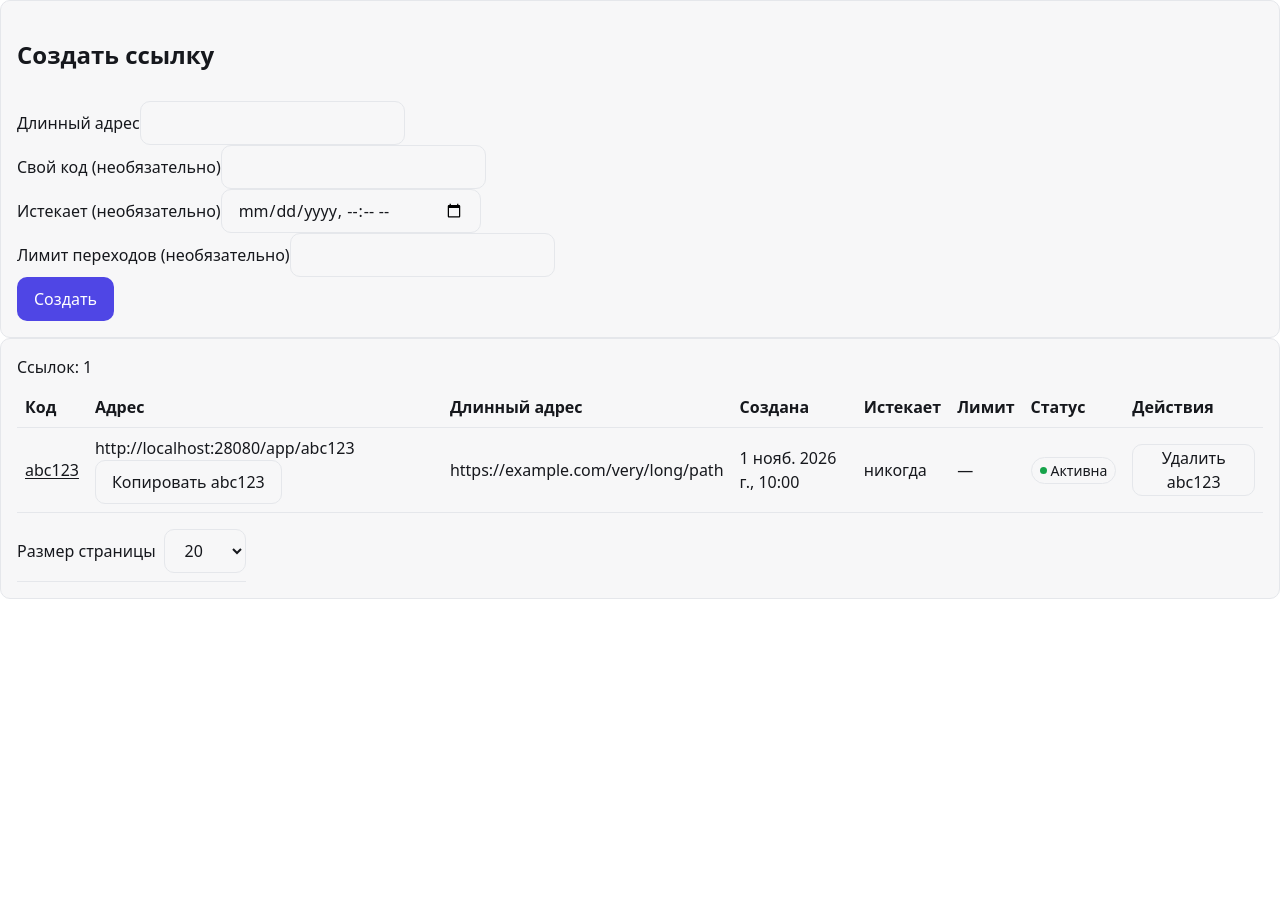
it: LinksPage › без токена создание и удаление уходят без Authorization, а не со `Bearer null`
The image size is (1280, 900).
Type "https://example.com" into the field labelled "Длинный адрес".
click(272, 123); type("https://example.com")  # box [140, 101, 405, 145]
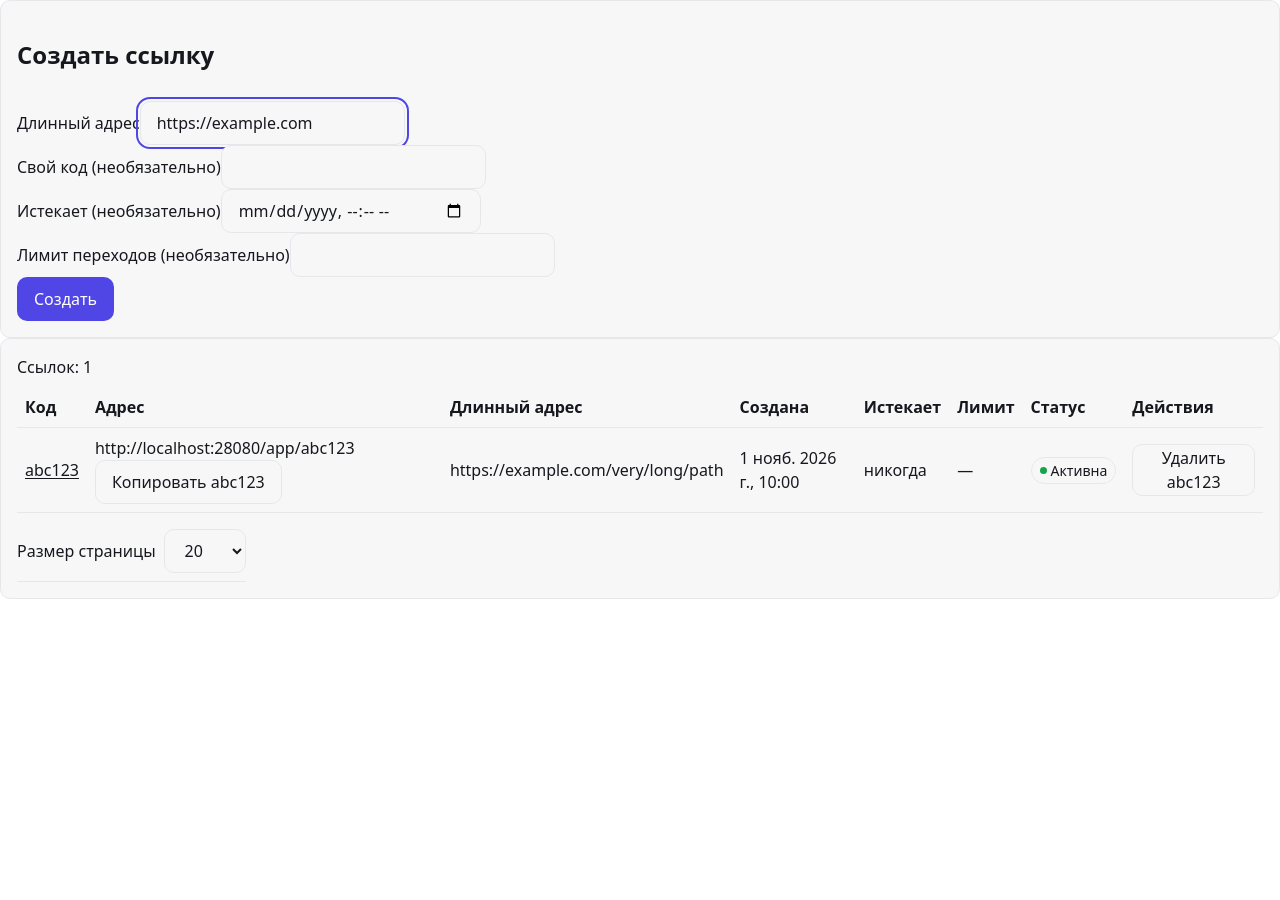
Click the button "Создать".
click(66, 299)  # box [17, 277, 114, 321]
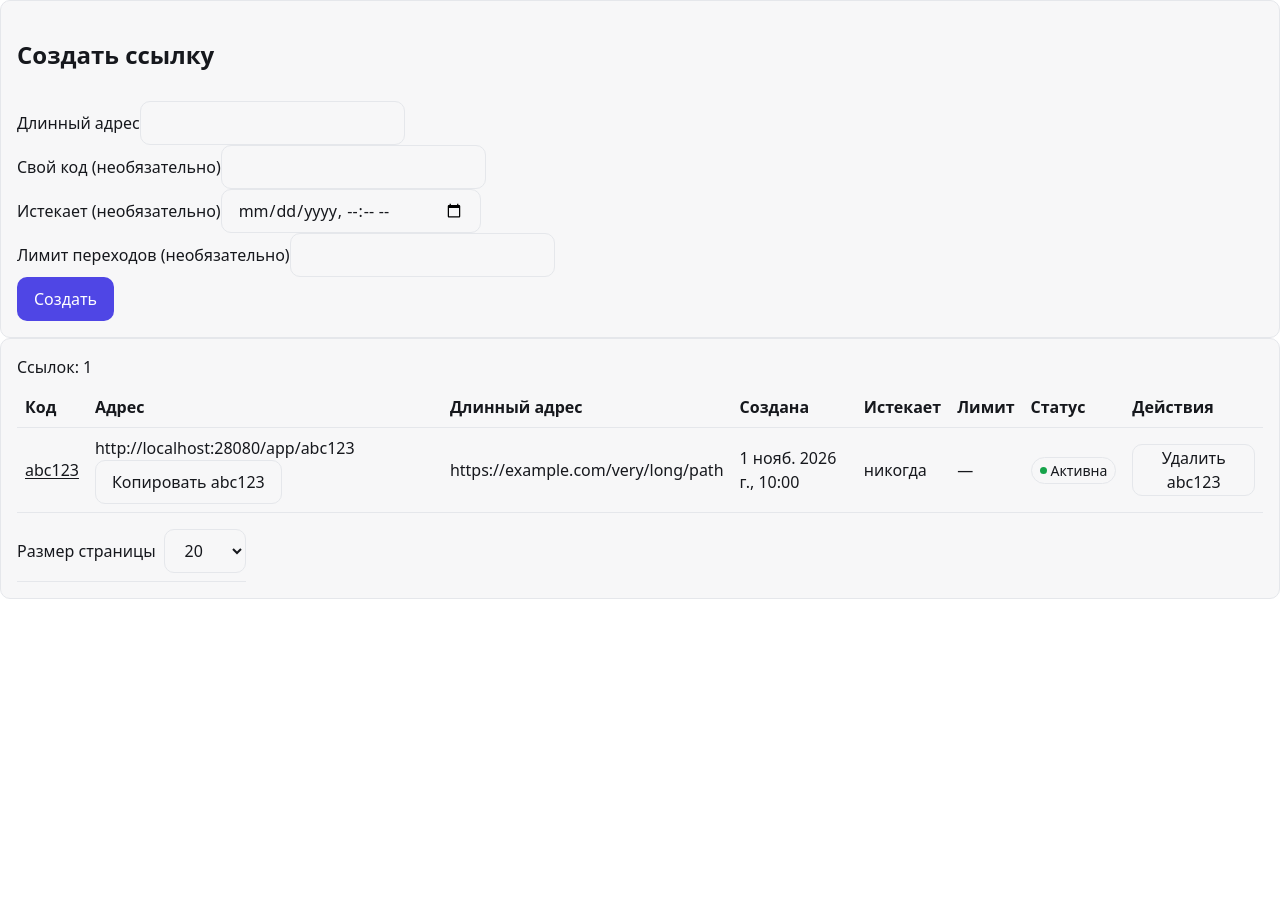
Click the button "Удалить abc123".
click(1194, 470)  # box [1132, 444, 1255, 496]
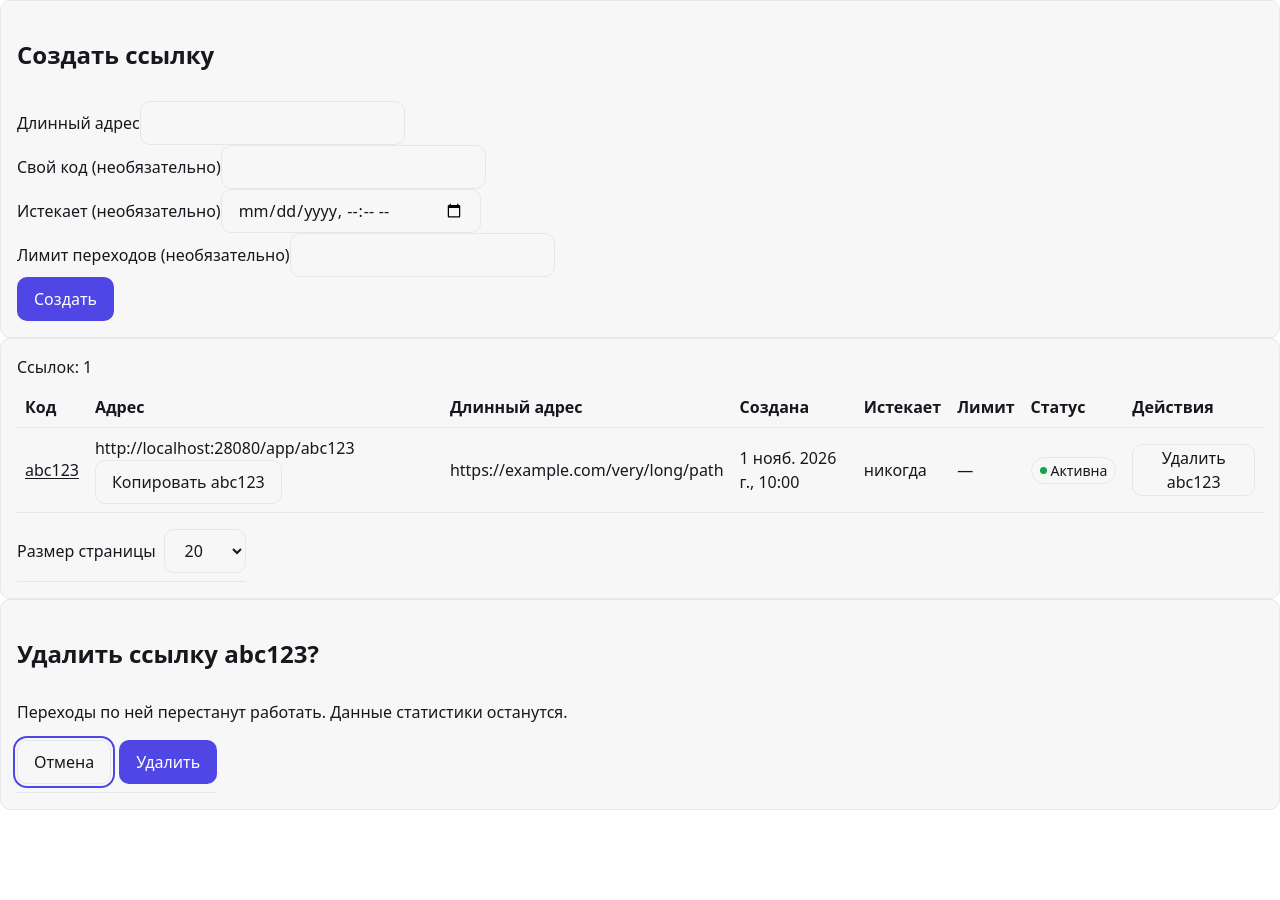
Click the button "Удалить".
click(168, 762)  # box [119, 740, 217, 784]
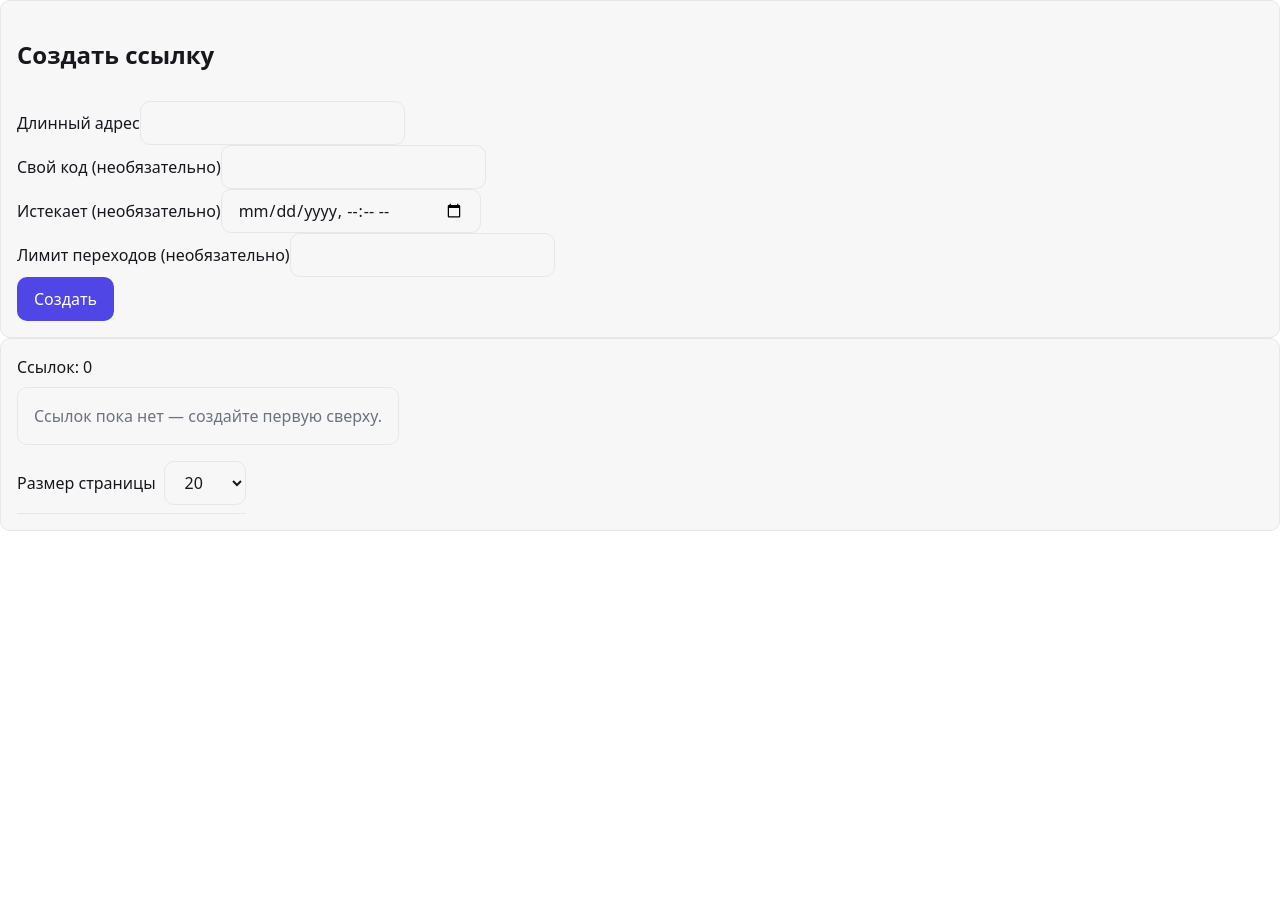
Expected: the text "Ссылок пока нет — создайте первую сверху." is shown, [17, 387, 399, 445]
